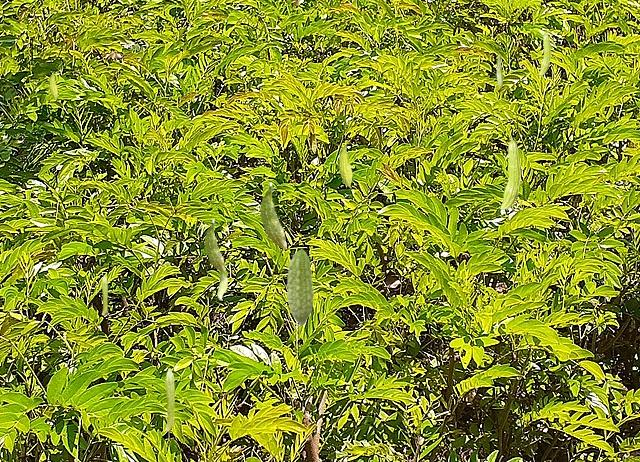ampalaya: (286, 248, 314, 326), (258, 181, 286, 249), (499, 136, 521, 210), (203, 219, 225, 273), (338, 142, 352, 189), (165, 368, 175, 431), (538, 31, 551, 75), (217, 271, 228, 300), (48, 71, 58, 101), (101, 274, 108, 315), (496, 54, 503, 88)
